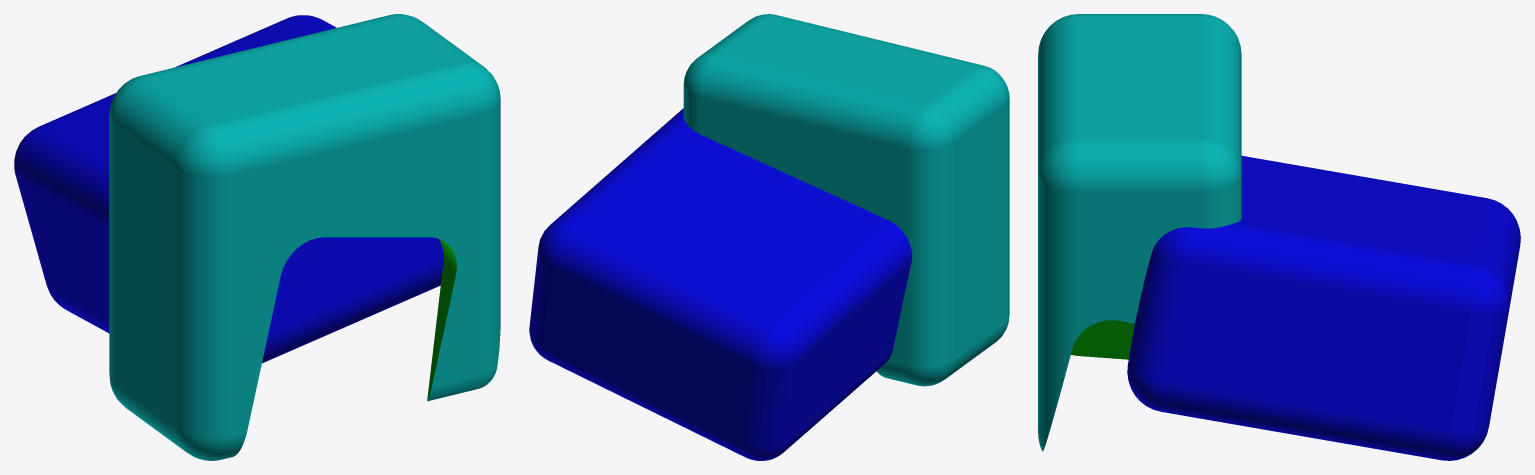
Rendered from random10.fbx.
3 renders of one model, left to right at view 1: azimuth 30°, elevation 25°; view 2: azimuth 150°, elevation 25°; view 3: azimuth 270°, elevation 25°, orthographic. The views are drawn at different scales.
Visible parts, largest first — view 1: obj1; view 2: obj1; view 3: obj1.
Part boxes in pixels (<box>): obj1: <box>14,14,500,460</box>; obj1: <box>529,14,1009,460</box>; obj1: <box>1038,14,1520,460</box>.
Size of the model in its own units: 10.7 by 9.28 by 11.86.
